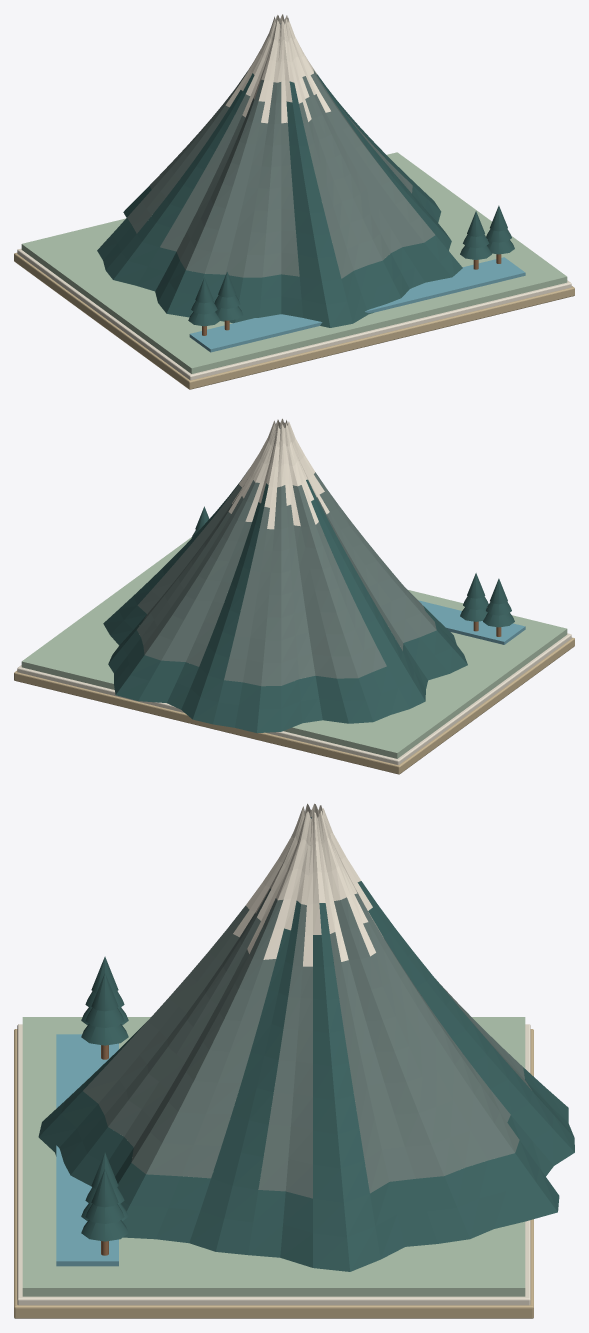
Rendered from fuji.glb.
3 views of the same model, one above another, from view 1: azimuth 30°, elevation 25°; view 2: azimuth 150°, elevation 25°; view 3: azimuth 270°, elevation 25° (orthographic). The views are drawn at different scales.
Visible parts, largest first — view 1: fuji_basalt, fuji_roof, fuji_mint, fuji_ivory, fuji_stone, fuji_glass; view 2: fuji_basalt, fuji_roof, fuji_mint, fuji_ivory, fuji_stone, fuji_glass; view 3: fuji_roof, fuji_basalt, fuji_mint, fuji_ivory, fuji_stone, fuji_glass.
Boxes of the visible parts, x1,y1,x2,y2 form: fuji_basalt: (127,70,435,278); fuji_roof: (97,71,514,327); fuji_mint: (21,152,567,373); fuji_ivory: (17,14,571,380); fuji_stone: (14,252,574,389); fuji_glass: (189,257,525,352); fuji_basalt: (137,472,436,686); fuji_roof: (103,471,514,733); fuji_mint: (21,537,567,758); fuji_ivory: (17,418,571,764); fuji_stone: (14,637,574,774); fuji_glass: (418,600,525,644); fuji_roof: (38,881,574,1271); fuji_basalt: (83,888,531,1198); fuji_mint: (22,1017,525,1296); fuji_ivory: (17,803,530,1305); fuji_stone: (14,1029,533,1318); fuji_glass: (56,1034,118,1266).
Size of the model in its own units: 7.6 by 4.74 by 6.47.
